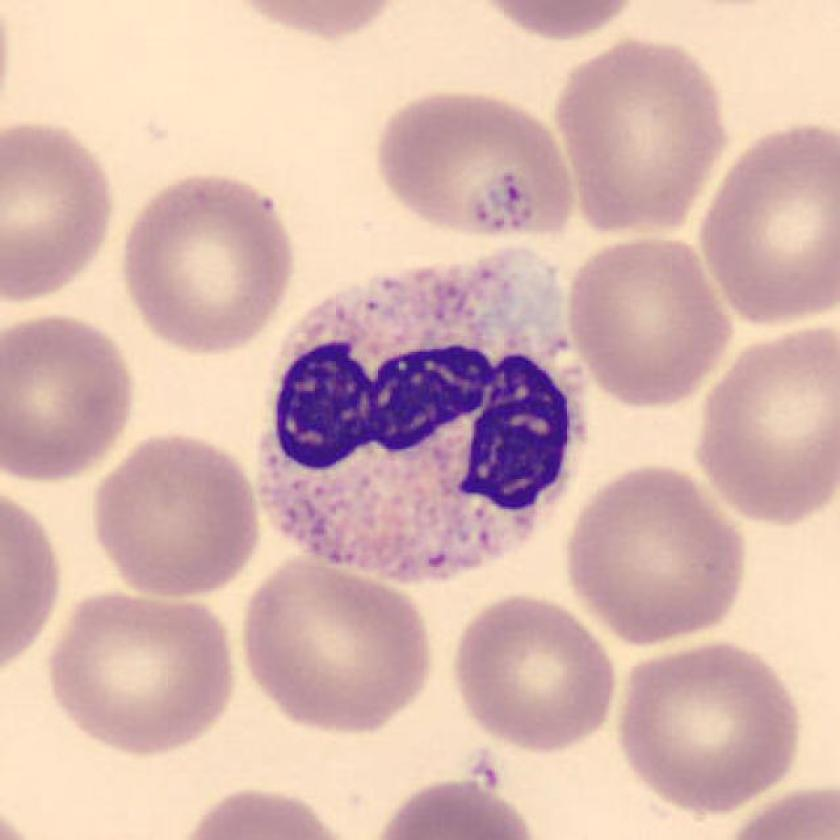neutrophil: (259, 250, 591, 584)
